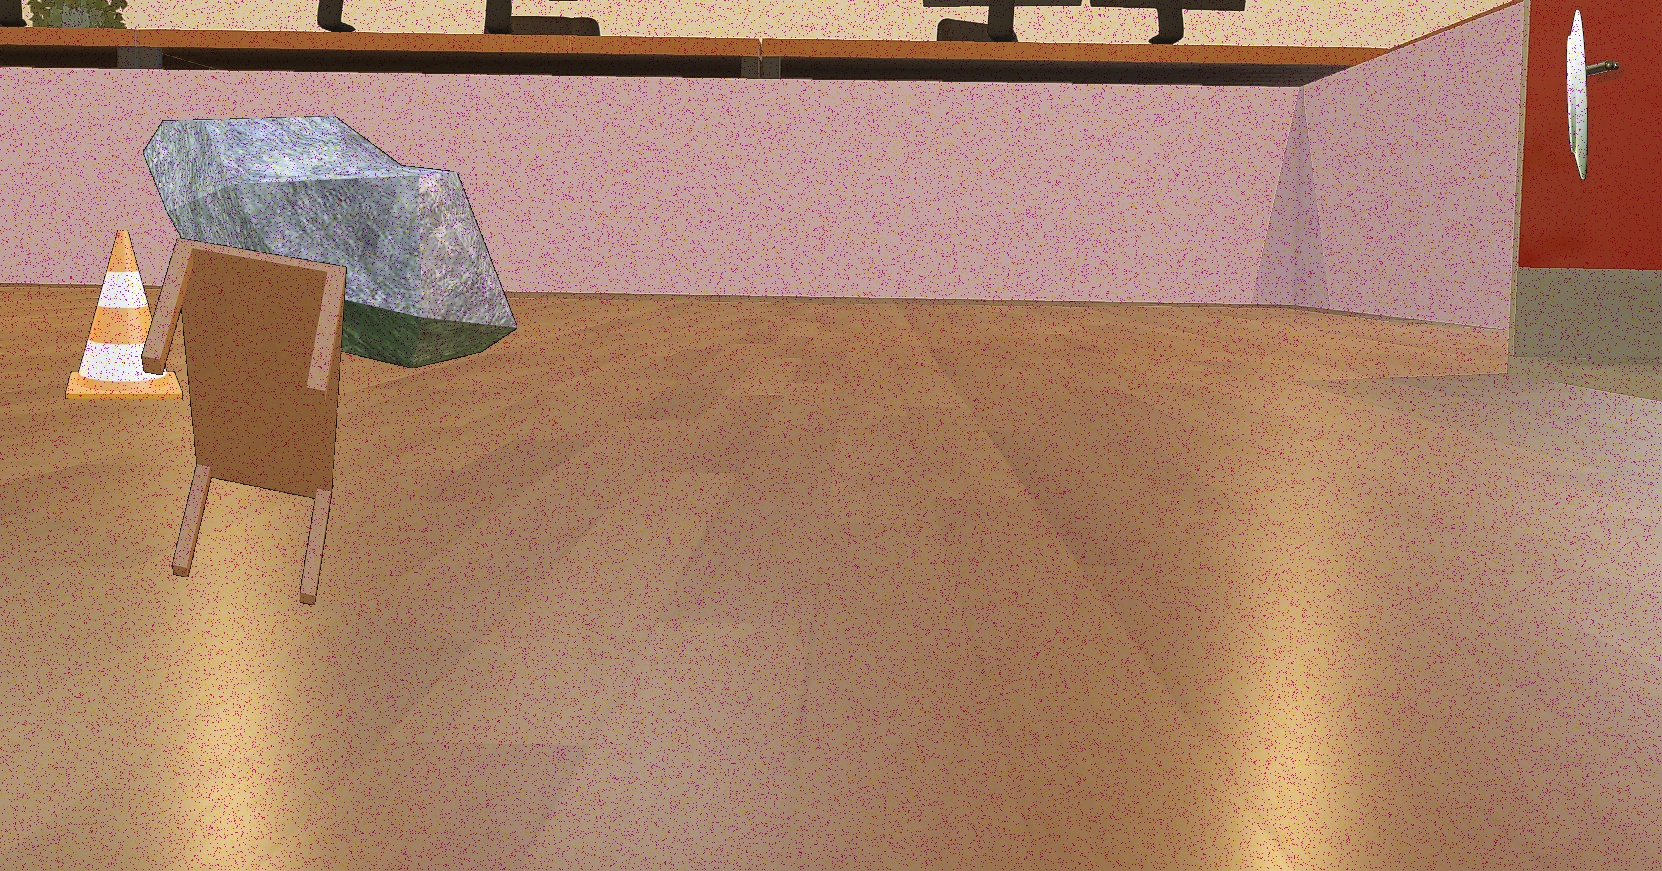cono: (65, 229, 183, 400)
mesa: (141, 237, 347, 606)
piedra: (142, 115, 518, 369)
plato: (1566, 9, 1588, 180)
